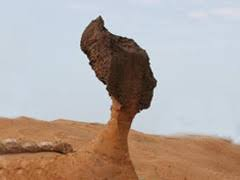yehliu: (71, 14, 167, 116)
